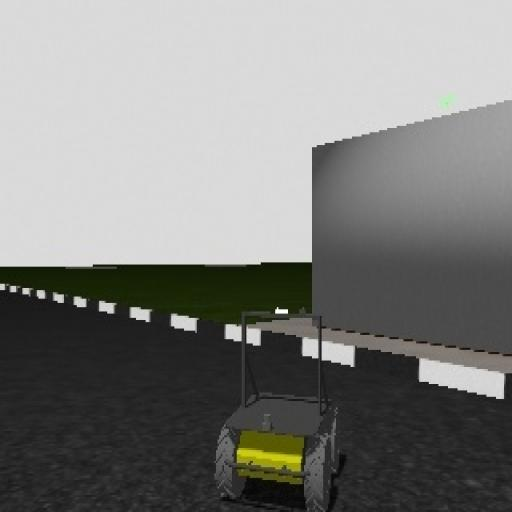huskya200: (218, 302, 342, 512)
